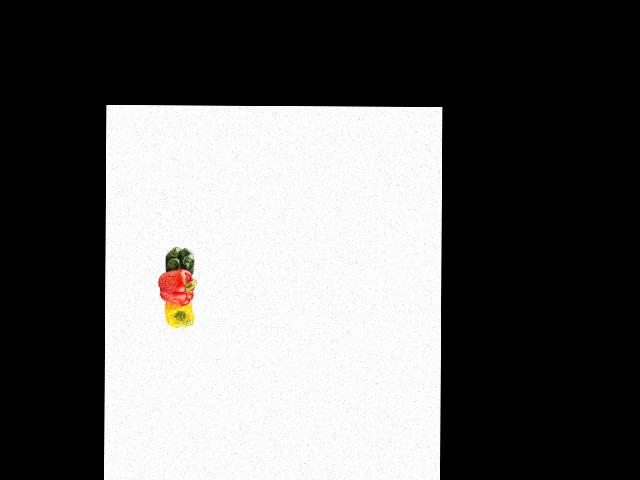bell_pepper: (158, 299, 197, 329)
